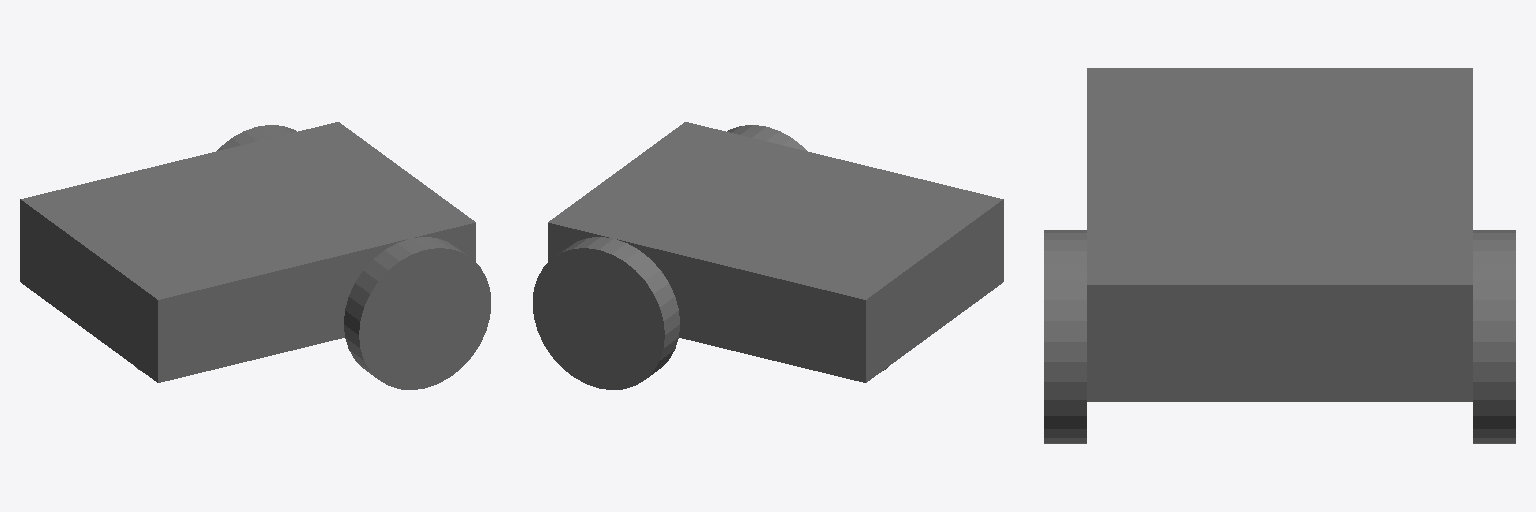
URDF robot description (diffbot):
<?xml version="1.0" ?>
<!-- =================================================================================== -->
<!-- |    This document was autogenerated by xacro from diffbot.urdf.xacro             | -->
<!-- |    EDITING THIS FILE BY HAND IS NOT RECOMMENDED                                 | -->
<!-- =================================================================================== -->
<!-- Basic differential drive mobile base -->
<robot name="diffbot">
  <material name="gray">
    <color rgba="0.5 0.5 0.5 0.2"/>
  </material>
  <material name="ball">
    <color rgba="0.5 0.5 0.5 0.2"/>
  </material>
  <material name="white">
    <color rgba="1.0 1.0 1.0 1.0"/>
  </material>
  <collision_material name="wheel">
    <friction dynamic="1.0" static="1.0"/>
    <contact_offset value="0.02"/>
  </collision_material>
  <collision_material name="ball">
    <friction dynamic="0.0" static="0.0"/>
  </collision_material>
  <!-- buoyancy_material の定義（robot直下） -->
  <buoyancy_material name="light_material">
    <density value="0.5"/>
    <!-- 水より軽い -->
  </buoyancy_material>
  <buoyancy_material name="heavy_material">
    <density value="2.0"/>
    <!-- 水より重い -->
  </buoyancy_material>
  <!-- ロボット全体のデフォルト水力学パラメータ（オプション） -->
  <hydrodynamics>
    <water_density>1027</water_density>
    <velocity_reference>1.0</velocity_reference>
    <pressure_drag>
      <C_PD1>10</C_PD1>
      <C_PD2>10</C_PD2>
      <f_P>0.5</f_P>
    </pressure_drag>
    <suction_drag>
      <C_SD1>10</C_SD1>
      <C_SD2>10</C_SD2>
      <f_S>0.5</f_S>
    </suction_drag>
    <slamming>
      <power>2</power>
      <max_acceleration>10</max_acceleration>
      <multiplier>1</multiplier>
    </slamming>
  </hydrodynamics>
  <link name="base_link">
    <inertial>
      <origin rpy="0 0 0" xyz="0 0 0"/>
      <mass value="0.01"/>
      <inertia ixx="0.0001" ixy="0.0" ixz="0.0" iyy="0.0001" iyz="0.0" izz="0.0001"/>
    </inertial>
  </link>
  <joint name="body_joint" type="fixed">
    <parent link="base_link"/>
    <child link="body_link"/>
    <origin rpy="0 0 0" xyz="-0.07 0 0.07"/>
  </joint>
  <link name="body_link">
    <inertial>
      <origin rpy="0 0 0" xyz="0 0 0"/>
      <mass value="1.0"/>
      <inertia ixx="0.001" ixy="0.0" ixz="0.0" iyy="0.001" iyz="0.0" izz="0.001"/>
    </inertial>
    <visual>
      <origin rpy="0 0 0" xyz="0 0 0"/>
      <geometry>
        <box size="0.24 0.18 0.06"/>
      </geometry>
      <material name="gray"/>
    </visual>
    <collision>
      <origin rpy="0 0 0" xyz="0 0 0"/>
      <buoyancy_material name="light_material"/>
      <!-- 水力学パラメータ（リンク固有値を設定）-->
      <hydrodynamics>
        <pressure_drag>
          <C_PD1>15</C_PD1>
          <C_PD2>20</C_PD2>
          <f_P>0.5</f_P>
        </pressure_drag>
      </hydrodynamics>
      <geometry>
        <box size="0.24 0.178 0.06"/>
      </geometry>
    </collision>
  </link>
  <joint name="left_wheel_joint" type="continuous">
    <axis xyz="0 0 1"/>
    <parent link="body_link"/>
    <child link="left_wheel_link"/>
    <origin rpy="-1.5707963267948966 0 0" xyz="0.07 0.1 -0.02"/>
    <drive damping="30000.0" stiffness="0.0"/>
    <limit effort="100.0" velocity="100.0"/>
  </joint>
  <link name="left_wheel_link">
    <inertial>
      <origin rpy="0 0 0" xyz="0 0 0"/>
      <mass value="0.1"/>
      <inertia ixx="0.0001" ixy="0.0" ixz="0.0" iyy="0.0001" iyz="0.0" izz="0.0001"/>
    </inertial>
    <visual>
      <geometry>
        <cylinder length="0.02" radius="0.05"/>
      </geometry>
      <material name="gray"/>
    </visual>
    <collision>
      <buoyancy_material name="light_material"/>
      <geometry>
        <cylinder length="0.02" radius="0.05"/>
      </geometry>
      <collision_material name="wheel"/>
    </collision>
  </link>
  <joint name="right_wheel_joint" type="continuous">
    <axis xyz="0 0 1"/>
    <parent link="body_link"/>
    <child link="right_wheel_link"/>
    <origin rpy="-1.5707963267948966 0 0" xyz="0.07 -0.1 -0.02"/>
    <drive damping="30000.0" stiffness="0.0"/>
    <limit effort="100.0" velocity="100.0"/>
  </joint>
  <link name="right_wheel_link">
    <inertial>
      <origin rpy="0 0 0" xyz="0 0 0"/>
      <mass value="0.1"/>
      <inertia ixx="0.0001" ixy="0.0" ixz="0.0" iyy="0.0001" iyz="0.0" izz="0.0001"/>
    </inertial>
    <visual>
      <geometry>
        <cylinder length="0.02" radius="0.05"/>
      </geometry>
      <material name="gray"/>
    </visual>
    <collision>
      <buoyancy_material name="light_material"/>
      <geometry>
        <cylinder length="0.02" radius="0.05"/>
      </geometry>
      <collision_material name="wheel"/>
    </collision>
  </link>
  <joint name="ball_joint" type="fixed">
    <parent link="body_link"/>
    <child link="ball_link"/>
    <origin rpy="0 0 0" xyz="-0.07 0 -0.05"/>
  </joint>
  <link name="ball_link">
    <visual>
      <origin rpy="0 0 0" xyz="0 0 0"/>
      <geometry>
        <sphere radius="0.02"/>
      </geometry>
      <material name="ball"/>
    </visual>
    <collision>
      <origin rpy="0 0 0" xyz="0 0 0"/>
      <buoyancy_material name="light_material"/>
      <geometry>
        <sphere radius="0.02"/>
      </geometry>
      <collision_material name="ball"/>
    </collision>
    <inertial>
      <origin rpy="0 0 0" xyz="0 0 0"/>
      <mass value="0.1"/>
      <inertia ixx="0.0001" ixy="0.0" ixz="0.0" iyy="0.0001" iyz="0.0" izz="0.0001"/>
    </inertial>
  </link>
  <joint name="lidar_joint" type="fixed">
    <parent link="body_link"/>
    <child link="lidar_link"/>
    <origin rpy="0 0 0" xyz="0 0 0.2"/>
  </joint>
  <link name="lidar_link">
    <inertial>
      <origin rpy="0 0 0" xyz="0 0 0"/>
      <mass value="0.1"/>
      <inertia ixx="0.0001" ixy="0.0" ixz="0.0" iyy="0.0001" iyz="0.0" izz="0.0001"/>
    </inertial>
    <!-- If visual tag is enable, lidar's ray is blocked. -->
    <!--
    <visual>
      <origin xyz="0 0 0" rpy="0 0 0" />
      <geometry>
        <cylinder radius="0.03" length="0.08" />
      </geometry>
      <material name="white" />
    </visual>
    -->
  </link>
  <joint name="camera_joint" type="fixed">
    <parent link="body_link"/>
    <child link="camera_link"/>
    <origin rpy="0 0 0" xyz="0.05 -0.1 0.1"/>
  </joint>
  <link name="camera_link">
    <inertial>
      <origin rpy="0 0 0" xyz="0 0 0"/>
      <mass value="0.1"/>
      <inertia ixx="0.0001" ixy="0.0" ixz="0.0" iyy="0.0001" iyz="0.0" izz="0.0001"/>
    </inertial>
    <!-- If visual tag is enable, camera's view is blocked. -->
    <!--
    <visual>
      <origin xyz="0 0 0" rpy="0 -1.57 0" />
      <geometry>
        <cylinder radius="0.01" length="0.01" />
      </geometry>
      <material name="white" />
    </visual>
    -->
  </link>
  <joint name="depth_camera_joint" type="fixed">
    <parent link="body_link"/>
    <child link="depth_camera_link"/>
    <origin rpy="0 0 0" xyz="0.05 0.1 0.1"/>
  </joint>
  <link name="depth_camera_link">
    <inertial>
      <origin rpy="0 0 0" xyz="0 0 0"/>
      <mass value="0.1"/>
      <inertia ixx="0.0001" ixy="0.0" ixz="0.0" iyy="0.0001" iyz="0.0" izz="0.0001"/>
    </inertial>
    <!-- If visual tag is enable, camera's view is blocked. -->
    <!--
    <visual>
      <origin xyz="0 0 0" rpy="0 -1.57 0" />
      <geometry>
        <cylinder radius="0.01" length="0.01" />
      </geometry>
      <material name="white" />
    </visual>
    -->
  </link>
  <ros2_control name="diffbot" type="system">
    <hardware>
      <plugin>topic_based_ros2_control/TopicBasedSystem</plugin>
      <param name="joint_commands_topic">/diffbot/joint_command</param>
      <param name="joint_states_topic">/diffbot/joint_states</param>
      <param name="sum_wrapped_joint_states">true</param>
    </hardware>
    <joint name="left_wheel_joint">
      <command_interface name="velocity">
        <param name="min">-1</param>
        <param name="max">1</param>
      </command_interface>
      <state_interface name="position"/>
      <state_interface name="velocity"/>
      <state_interface name="effort"/>
    </joint>
    <joint name="right_wheel_joint">
      <command_interface name="velocity">
        <param name="min">-1</param>
        <param name="max">1</param>
      </command_interface>
      <state_interface name="position"/>
      <state_interface name="velocity"/>
      <state_interface name="effort"/>
    </joint>
  </ros2_control>
  <!-- =============== Gazebo =============== -->
  <gazebo>
    <plugin filename="gz_ros2_control-system" name="gz_ros2_control::GazeboSimROS2ControlPlugin">
      <parameters>/home/hijikata/git_ws/Unity_ROS2_sample/colcon_ws/install/diffbot_description/share/diffbot_description/config/diffbot_sim.yaml</parameters>
    </plugin>
    <plugin filename="ignition-gazebo-sensors-system" name="ignition::gazebo::systems::Sensors">
      <render_engine>ogre2</render_engine>
    </plugin>
  </gazebo>
  <gazebo reference="lidar_link">
    <sensor name="lidar_link" type="gpu_lidar">
      <ignition_frame_id>lidar_link</ignition_frame_id>
      <topic>scan</topic>
      <update_rate>30</update_rate>
      <lidar>
        <scan>
          <horizontal>
            <samples>2800</samples>
            <resolution>1</resolution>
            <min_angle>-3.14</min_angle>
            <max_angle>3.14</max_angle>
          </horizontal>
          <vertical>
            <samples>1</samples>
            <resolution>0.1</resolution>
            <min_angle>0.0</min_angle>
            <max_angle>0.0</max_angle>
          </vertical>
        </scan>
        <range>
          <min>0.2</min>
          <max>30.0</max>
          <resolution>0.01</resolution>
        </range>
        <frame_id>/lidar_link</frame_id>
      </lidar>
      <alwaysOn>1</alwaysOn>
      <visualize>true</visualize>
    </sensor>
  </gazebo>
  <gazebo reference="camera_link">
    <sensor name="camera_link" type="camera">
      <update_rate>10.0</update_rate>
      <always_on>true</always_on>
      <ignition_frame_id>camera_link</ignition_frame_id>
      <pose>0 0 0 0 0 0</pose>
      <topic>/image_raw</topic>
      <camera name="diff_bot_camera">
        <!--
          <triggered>true</triggered>
          <trigger_topic>/trigger</trigger_topic>
          -->
        <horizontal_fov>1.3962634</horizontal_fov>
        <image>
          <width>600</width>
          <height>600</height>
          <format>R8G8B8</format>
        </image>
        <clip>
          <near>0.02</near>
          <far>300</far>
        </clip>
      </camera>
    </sensor>
  </gazebo>
  <gazebo reference="depth_camera_link">
    <sensor name="depth_camera_link" type="depth_camera">
      <ignition_frame_id>depth_camera_link</ignition_frame_id>
      <pose>0 0 0 0 0 0</pose>
      <camera>
        <horizontal_fov>1.047</horizontal_fov>
        <image>
          <width>320</width>
          <height>240</height>
          <format>R_FLOAT32</format>
        </image>
        <clip>
          <near>0.1</near>
          <far>100</far>
        </clip>
      </camera>
      <always_on>true</always_on>
      <update_rate>10</update_rate>
      <visualize>true</visualize>
      <topic>depth_camera/image_raw</topic>
    </sensor>
  </gazebo>
  <!-- =============== Simulation =============== -->
  <simulation>
    <sensor name="lidar_link" type="lidar">
      <update_rate>30</update_rate>
      <ray>
        <scan>
          <horizontal>
            <samples>400</samples>
            <resolution>1</resolution>
            <min_angle>-3.1415</min_angle>
            <max_angle>3.1415</max_angle>
          </horizontal>
        </scan>
        <range>
          <min>0.05</min>
          <max>20.0</max>
          <resolution>0.01</resolution>
        </range>
        <noise>
          <type>gaussian</type>
          <mean>0.0</mean>
          <stddev>0.01</stddev>
        </noise>
      </ray>
      <topicName>/lidar/scan</topicName>
      <frameName>lidar_link</frameName>
    </sensor>
    <sensor name="camera_link" type="camera">
      <update_rate>10.0</update_rate>
      <horizontal_fov>1.3962634</horizontal_fov>
      <image>
        <width>800</width>
        <height>600</height>
      </image>
      <clip>
        <near>0.02</near>
        <far>300</far>
      </clip>
      <cameraName>/camera</cameraName>
      <imageTopicName>image_raw</imageTopicName>
      <cameraInfoTopicName>camera_info</cameraInfoTopicName>
      <frameName>camera_link</frameName>
    </sensor>
    <sensor name="depth_camera_link" type="depth_camera">
      <update_rate>10.0</update_rate>
      <horizontal_fov>1.3962634</horizontal_fov>
      <image>
        <width>320</width>
        <height>240</height>
      </image>
      <clip>
        <near>0.02</near>
        <far>300</far>
      </clip>
      <cameraName>/depth_camera</cameraName>
      <imageTopicName>depth_image_raw</imageTopicName>
      <cameraInfoTopicName>depth_camera_info</cameraInfoTopicName>
      <frameName>depth_camera_link</frameName>
    </sensor>
  </simulation>
</robot>

--- What the picture shows (computed from the rendered views, not written in the file) ---
3 views of the same robot in one strip: view 1: azimuth 30°, elevation 25°; view 2: azimuth 150°, elevation 25°; view 3: azimuth 270°, elevation 25° (orthographic).
Robot: diffbot — 8 links, 7 joints (2 continuous, 5 fixed); root link base_link; default pose: all joints at 0.
Links seen in each view (by area): view 1: body_link, right_wheel_link, left_wheel_link; view 2: body_link, left_wheel_link, right_wheel_link; view 3: body_link, left_wheel_link, right_wheel_link.
Boxes of the visible links, bbox=[...] form: body_link: bbox=[20, 122, 475, 382]; right_wheel_link: bbox=[344, 237, 490, 389]; left_wheel_link: bbox=[217, 125, 296, 150]; body_link: bbox=[548, 122, 1003, 382]; left_wheel_link: bbox=[533, 237, 679, 389]; right_wheel_link: bbox=[727, 125, 806, 150]; body_link: bbox=[1087, 68, 1472, 401]; left_wheel_link: bbox=[1473, 230, 1515, 443]; right_wheel_link: bbox=[1044, 230, 1086, 443].
Size in the robot's own frame: 0.24 by 0.22 by 0.1 metres.
Geometry: primitives only (box / cylinder / sphere), no mesh files.
